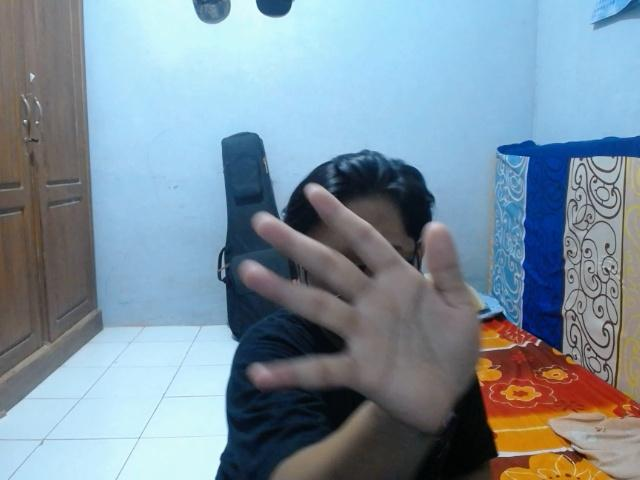Release: (229, 176, 499, 441)
